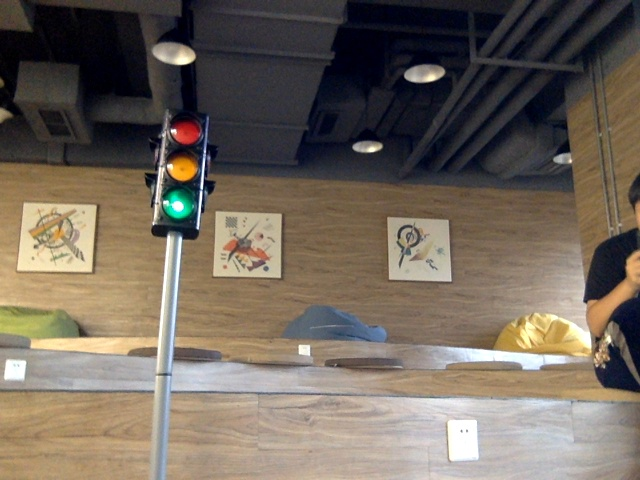green: (164, 116, 196, 220)
